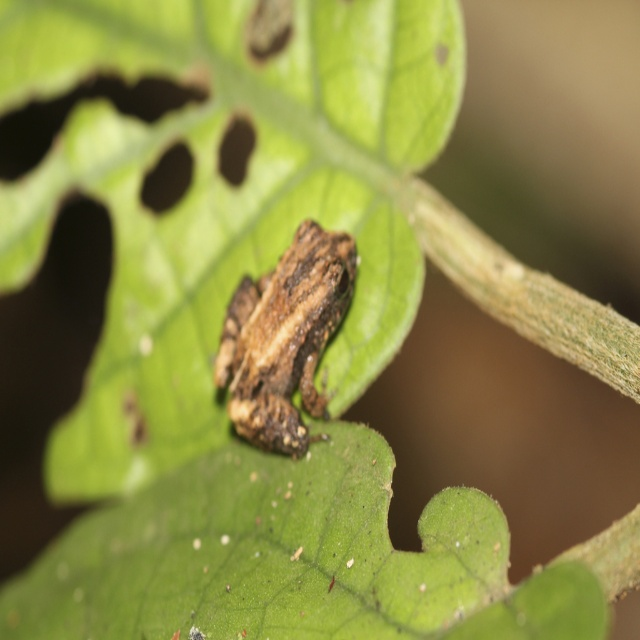Frog: (214, 218, 357, 459)
